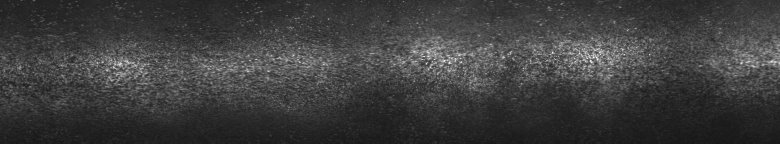kb: (560, 14, 776, 101)
